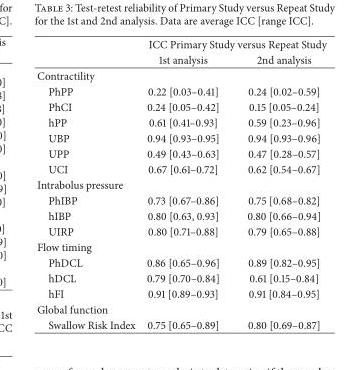table: (36, 36, 325, 331)
table column: (36, 36, 140, 331), (232, 36, 325, 331), (140, 36, 232, 331)
table column header: (36, 36, 325, 67)
table projected row header: (36, 67, 325, 83), (36, 176, 325, 192), (36, 238, 325, 254), (36, 301, 325, 316)
table row: (36, 51, 325, 67), (36, 67, 325, 83), (36, 98, 325, 114), (36, 129, 325, 145), (36, 160, 325, 176), (36, 176, 325, 192), (36, 207, 325, 223), (36, 238, 325, 254), (36, 269, 325, 285), (36, 285, 325, 301), (36, 36, 325, 51), (36, 83, 325, 98), (36, 114, 325, 129), (36, 145, 325, 160), (36, 192, 325, 207), (36, 223, 325, 238), (36, 254, 325, 269), (36, 301, 325, 316), (36, 316, 325, 331)
table spanning cell: (140, 36, 325, 51)
